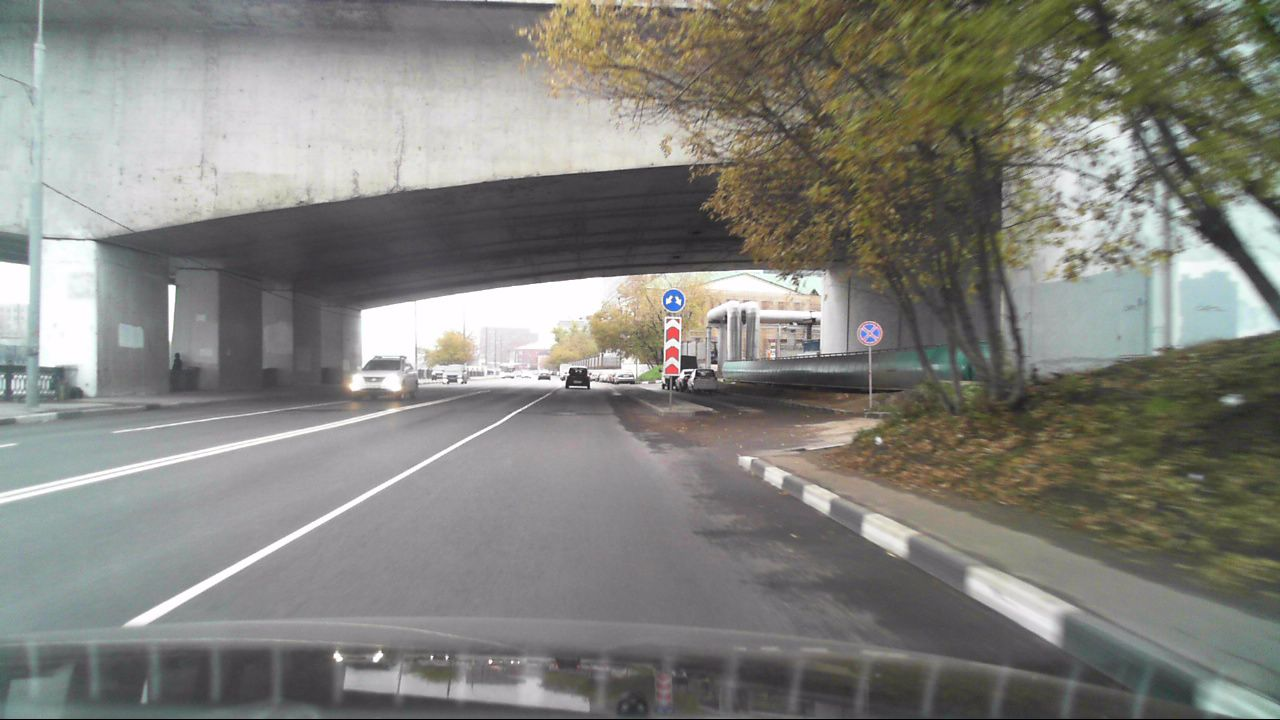No Parking: (857, 321, 882, 347)
